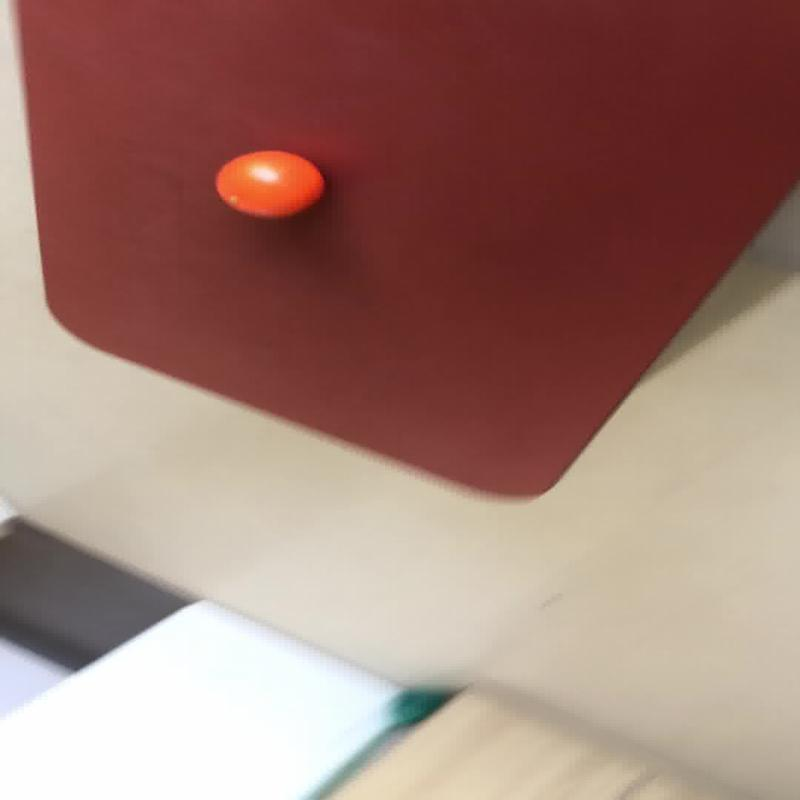orange: (213, 149, 325, 218)
